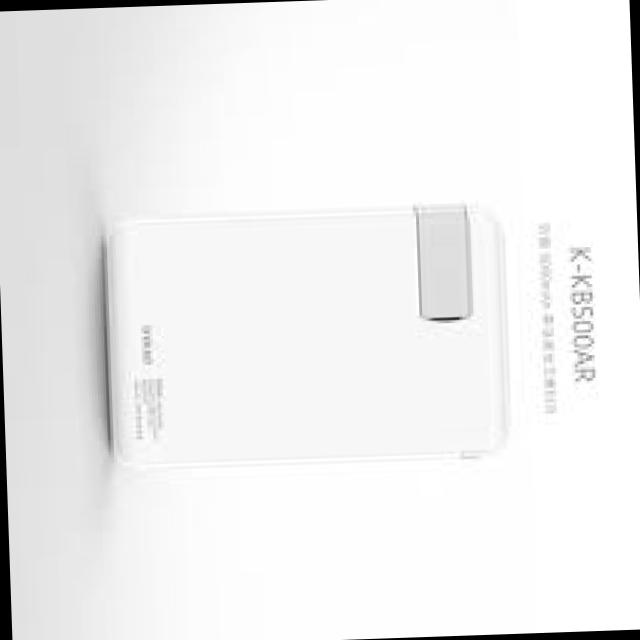power_bank: (90, 203, 517, 482)
